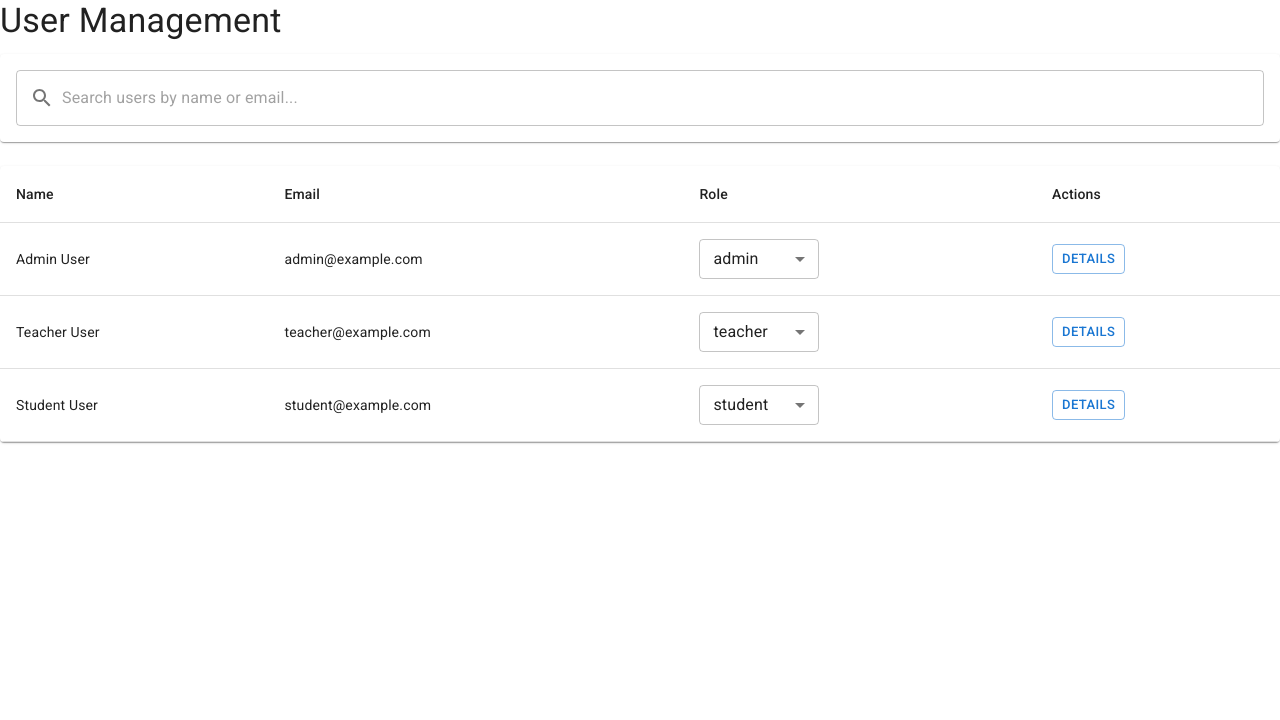
Test: UserManagement Component › shows error message when role update fails
Expected: the text "Teacher User" is shown, [0, 295, 268, 368]
Press the mouse on the dropdown labelled "teacher" at (741, 332), box [713, 322, 768, 341]
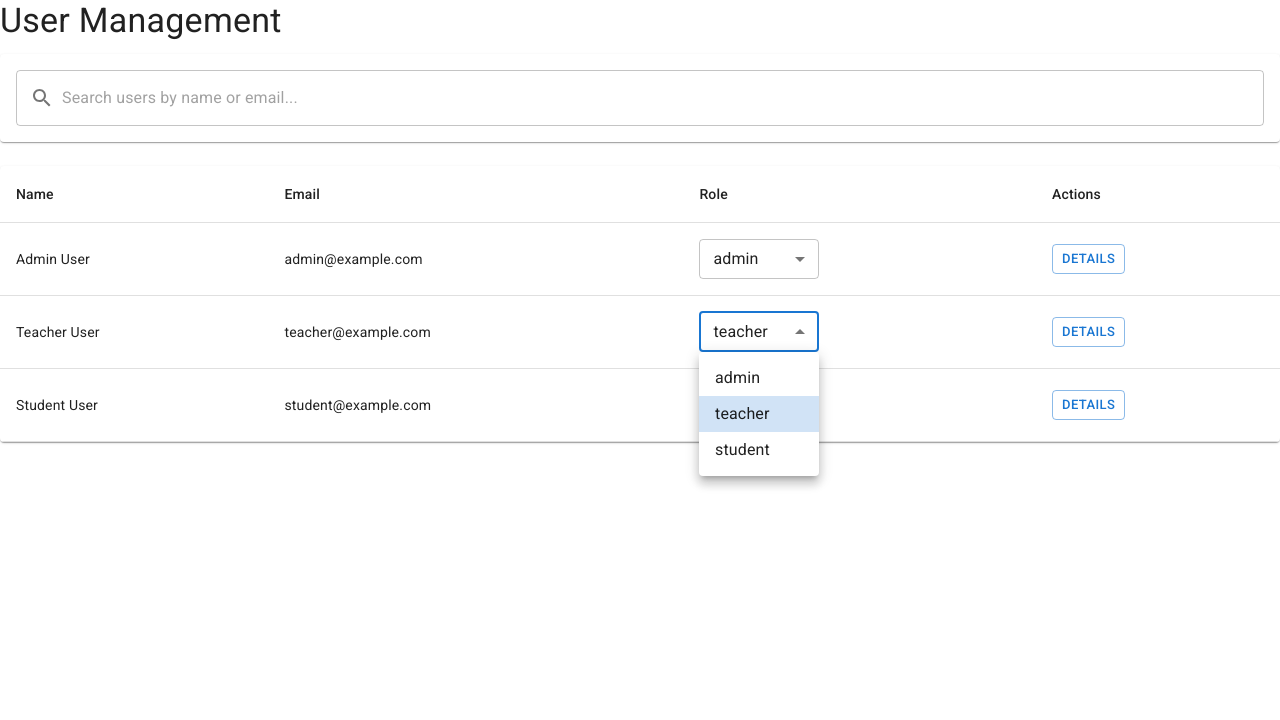
Click the option "admin" at (738, 378), box [715, 368, 760, 387]
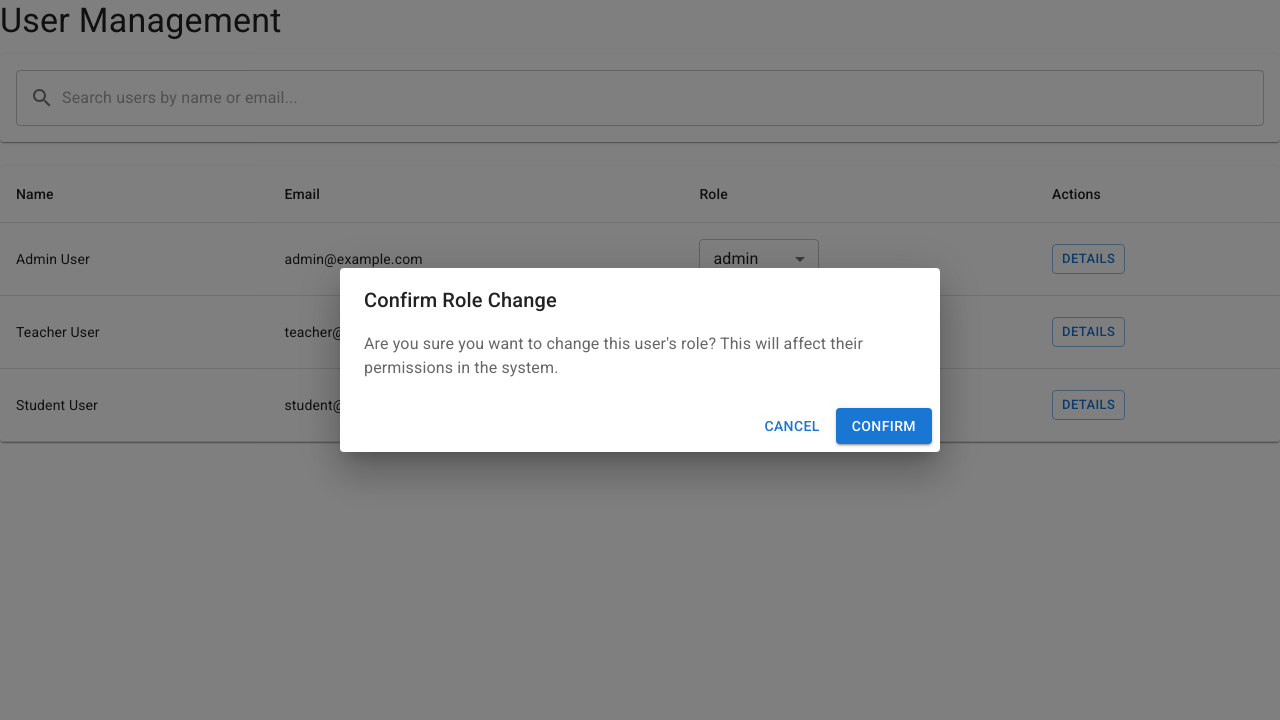
Click the button "Confirm" at (884, 426), box [836, 408, 932, 444]
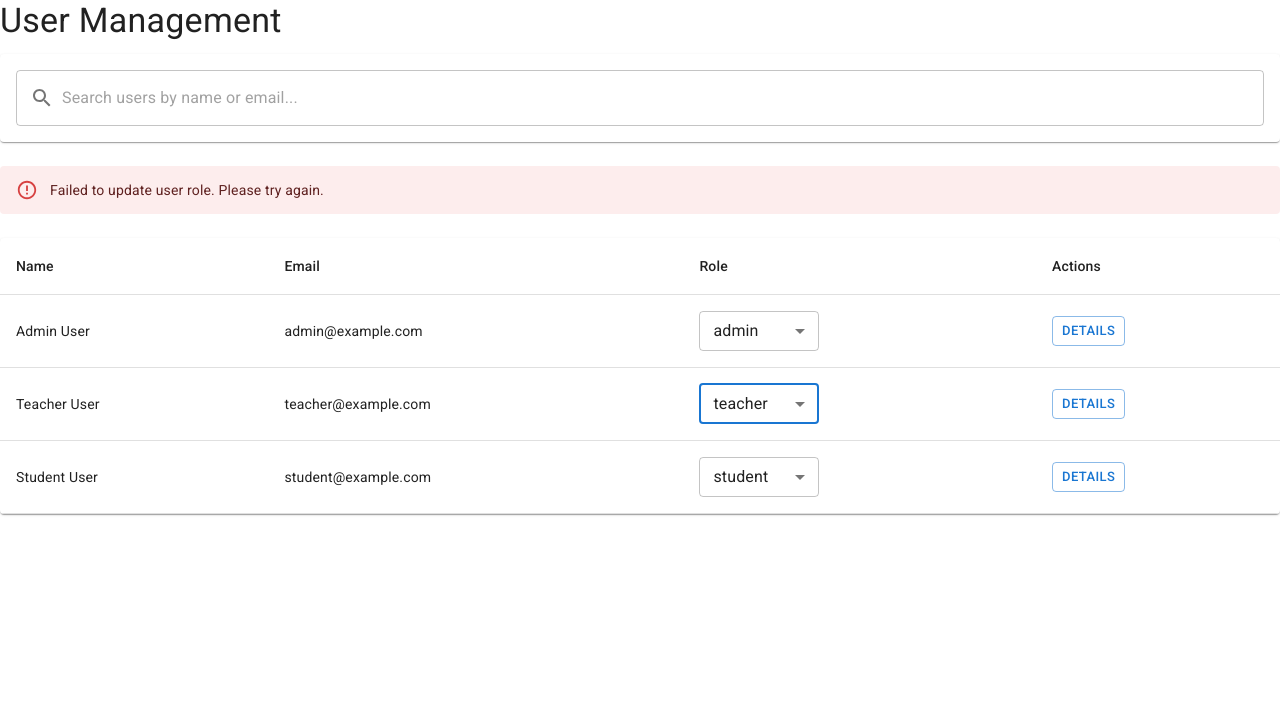
Expected: the text "Failed to update user role. Please try again." is shown, [50, 182, 324, 198]
